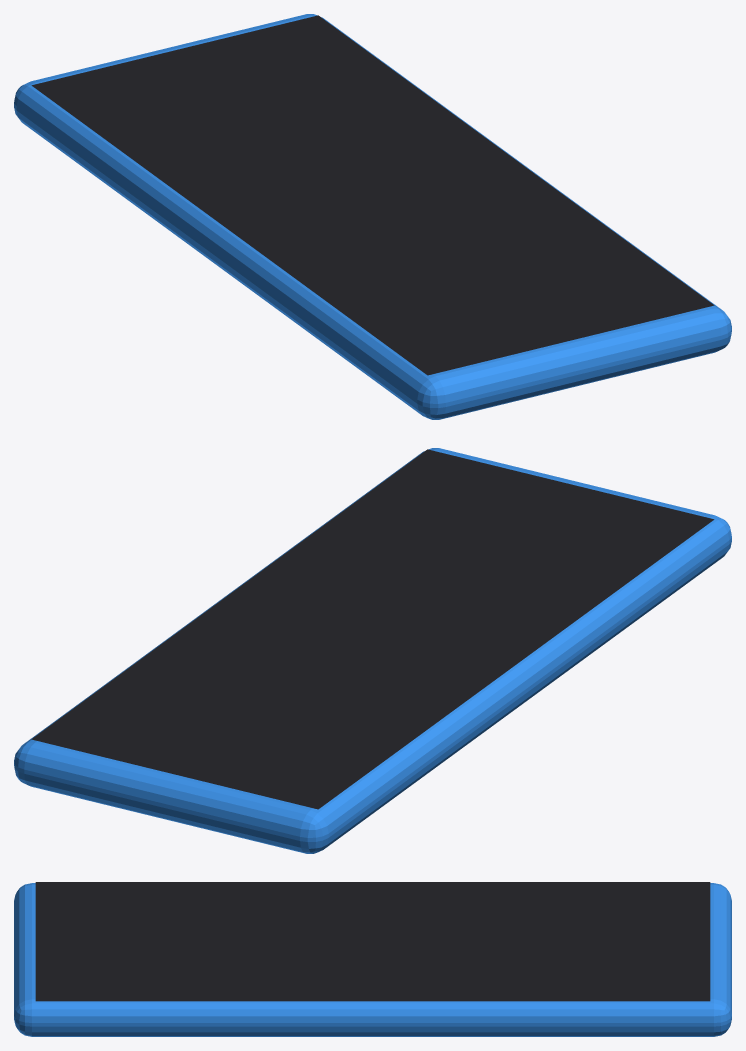
File: Phone_772.glb
3 renders of one model, top to bottom at view 1: azimuth 30°, elevation 25°; view 2: azimuth 150°, elevation 25°; view 3: azimuth 270°, elevation 25°, orthographic. The views are drawn at different scales.
Parts seen in each view (by area): view 1: Phone_Screen, Phone_Body; view 2: Phone_Screen, Phone_Body; view 3: Phone_Screen, Phone_Body.
Part boxes in pixels (x1,y1,x2,y2): Phone_Screen: (31, 15, 714, 375); Phone_Body: (14, 14, 731, 419); Phone_Screen: (31, 449, 714, 809); Phone_Body: (14, 448, 731, 853); Phone_Screen: (35, 882, 710, 1001); Phone_Body: (14, 883, 731, 1036).
Size of the model in its own units: 0.072 by 0.0094 by 0.1685.
